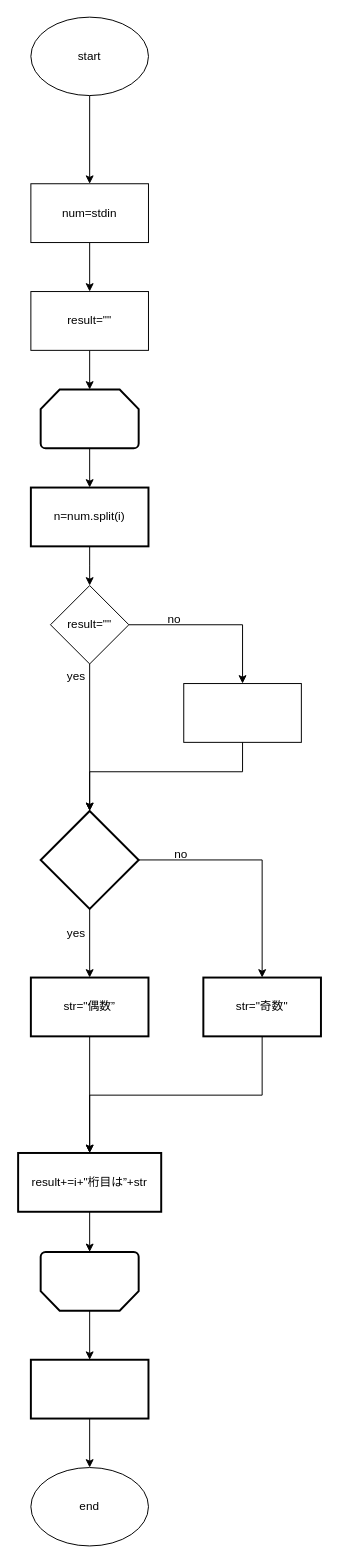
The diagram is 338 pixels wide and 1563 high, and some of its shapes have lost their labels. The box of each missing label's shape, as (x1, y1, x2, y2) in pixels:
i=0 i++ i<num.len: (39, 388, 139, 449)
n%2==0: (39, 809, 139, 909)
result+="、": (183, 683, 301, 742)
return result: (29, 1358, 149, 1419)
